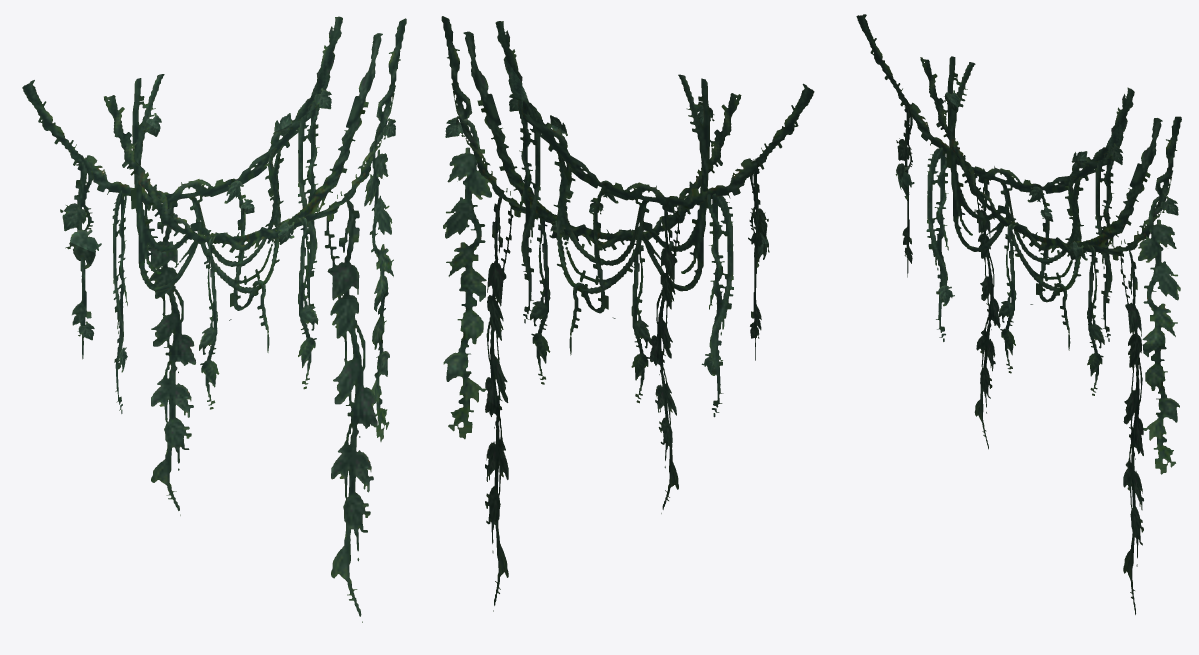
File: plant_lobbynew02_zhiwu_teng3.FBX
3 renders of one model, left to right at view 1: azimuth 30°, elevation 25°; view 2: azimuth 150°, elevation 25°; view 3: azimuth 330°, elevation 25°, orthographic. The views are drawn at different scales.
Parts seen in each view (by area): view 1: plant_lobbynew02_zhiwu_teng3; view 2: plant_lobbynew02_zhiwu_teng3; view 3: plant_lobbynew02_zhiwu_teng3.
Part boxes in pixels (x1,y1,x2,y2): plant_lobbynew02_zhiwu_teng3: [22, 16, 406, 622]; plant_lobbynew02_zhiwu_teng3: [441, 16, 814, 611]; plant_lobbynew02_zhiwu_teng3: [856, 14, 1181, 614].
Bounding box in the file's own units: 215 × 21.85 × 333.
